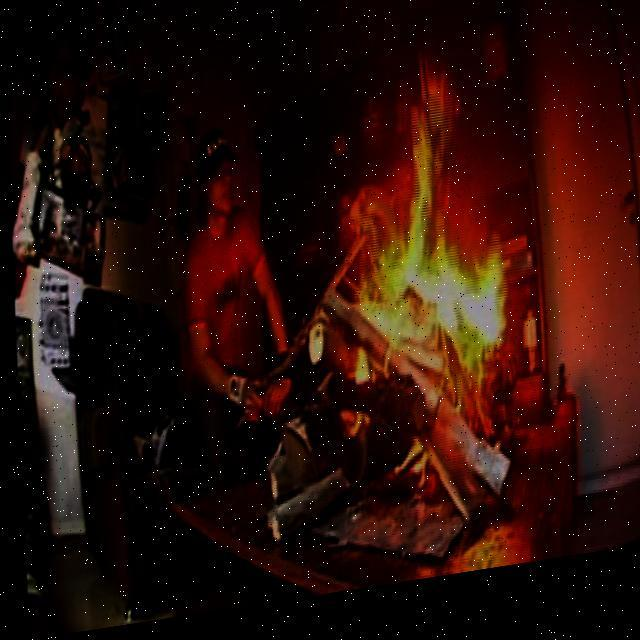Fire: (314, 46, 520, 479)
